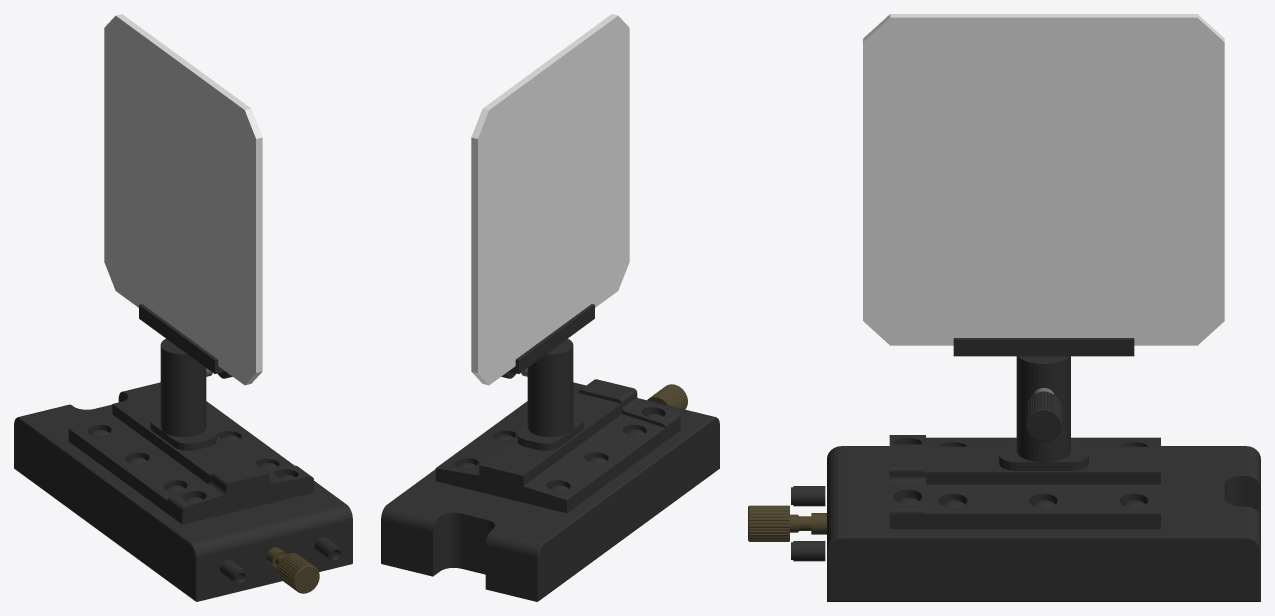
3 renders of one model, left to right at view 1: azimuth 30°, elevation 25°; view 2: azimuth 150°, elevation 25°; view 3: azimuth 270°, elevation 25°, orthographic. The views are drawn at different scales.
Parts seen in each view (by area): view 1: 立方体.002, 滑座.001, Cube, 柱体, 立方体.001, 大旋钮.003, 立方体, 小旋扭.001; view 2: 立方体.002, 滑座.001, Cube, 柱体, 立方体.001, 立方体, 大旋钮.003; view 3: 立方体.002, 滑座.001, Cube, 柱体, 立方体.001, 立方体, 大旋钮.004, 大旋钮.003, 小旋扭.001, 大旋钮座.003.
Boxes of the visible parts, box(x1,y1,x2,y2) form: 立方体.002: box(104, 14, 262, 385); 滑座.001: box(14, 382, 352, 601); Cube: box(68, 393, 313, 524); 柱体: box(160, 338, 206, 436); 立方体.001: box(139, 304, 225, 373); 大旋钮.003: box(276, 553, 319, 593); 立方体: box(150, 414, 216, 450); 小旋扭.001: box(220, 536, 342, 585); 立方体.002: box(471, 14, 629, 385); 滑座.001: box(381, 382, 719, 601); Cube: box(435, 379, 680, 513); 柱体: box(527, 338, 573, 436); 立方体.001: box(508, 304, 594, 373); 立方体: box(517, 414, 583, 450); 大旋钮.003: box(647, 384, 687, 409); 立方体.002: box(863, 14, 1224, 345); 滑座.001: box(827, 446, 1260, 601); Cube: box(889, 435, 1160, 529); 柱体: box(1016, 356, 1070, 462); 立方体.001: box(953, 338, 1134, 356); 立方体: box(998, 439, 1088, 470); 大旋钮.004: box(1025, 392, 1061, 441); 大旋钮.003: box(748, 505, 789, 541); 小旋扭.001: box(791, 486, 825, 561); 大旋钮座.003: box(790, 513, 826, 534).
Bounding box in the file's own units: 60 × 165 × 142.
